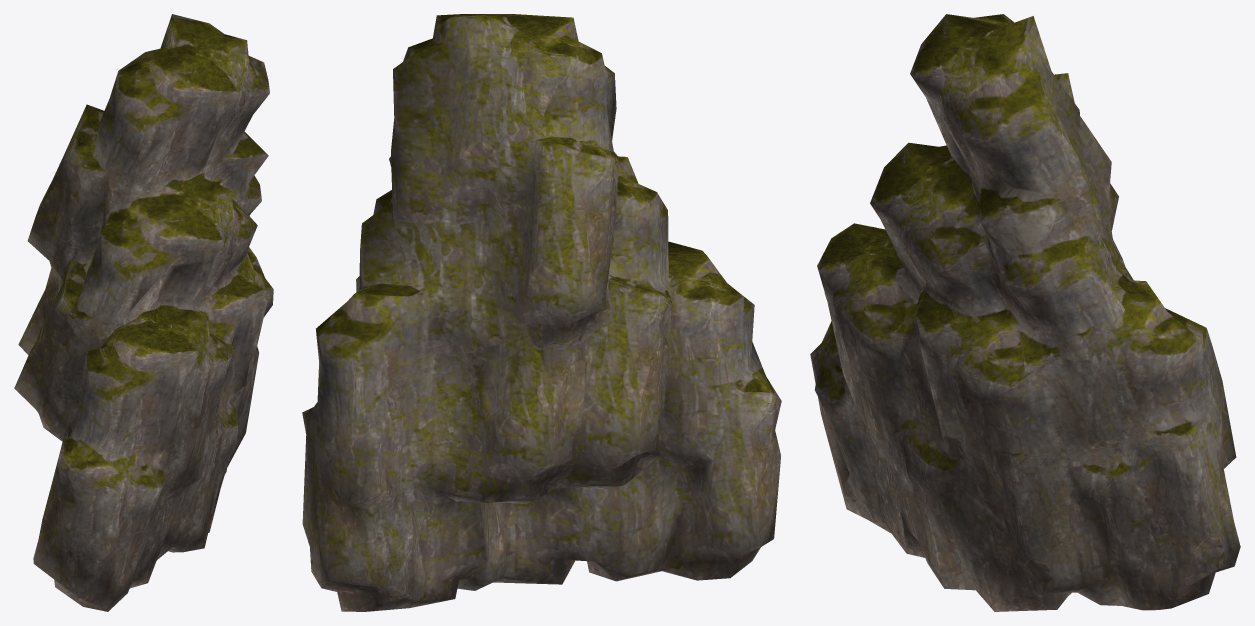
The model's file is SM_PROXY_SM_Cliff_01d.fbx.
3 renders of one model, left to right at view 1: azimuth 30°, elevation 25°; view 2: azimuth 150°, elevation 25°; view 3: azimuth 270°, elevation 25°, orthographic. The views are drawn at different scales.
Visible parts, largest first — view 1: SM_PROXY_SM_Cliff_01d_LOD0; view 2: SM_PROXY_SM_Cliff_01d_LOD0; view 3: SM_PROXY_SM_Cliff_01d_LOD0.
Part boxes in pixels (x1,y1,x2,y2): SM_PROXY_SM_Cliff_01d_LOD0: (14, 14, 273, 611); SM_PROXY_SM_Cliff_01d_LOD0: (302, 14, 781, 611); SM_PROXY_SM_Cliff_01d_LOD0: (810, 14, 1240, 611).
Size of the model in its own units: 31240 by 35667 by 53463.
